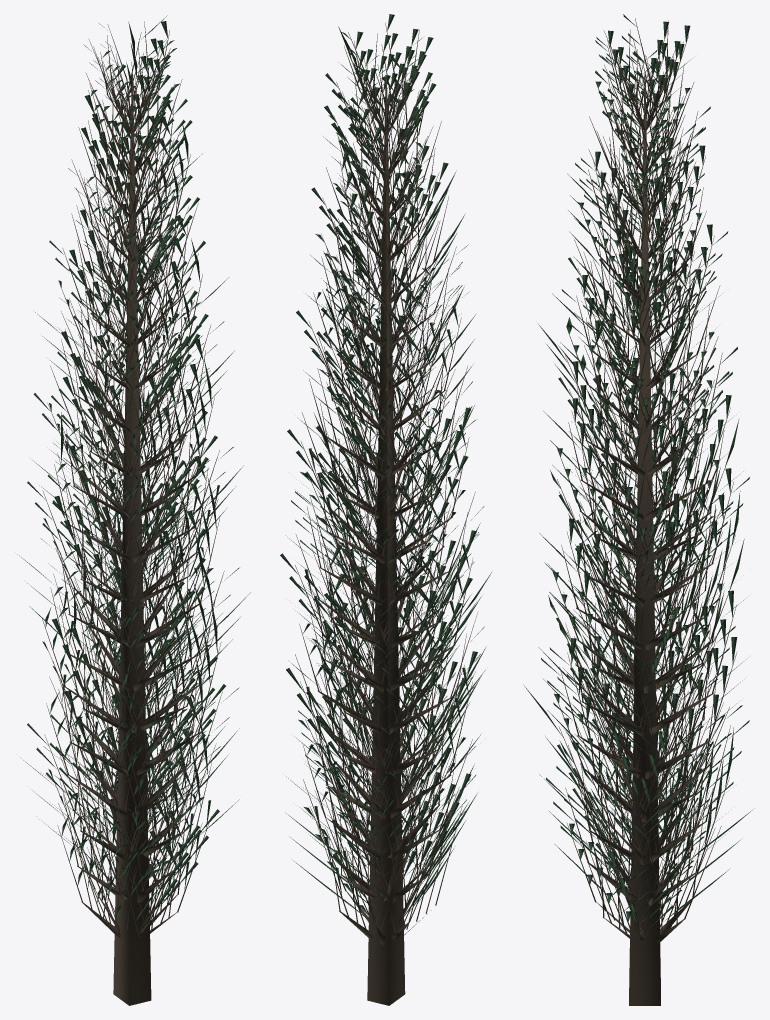
Rendered from columnar-evergreen-mobile.glb.
The picture shows the model from 3 angles, left to right: view 1: azimuth 30°, elevation 25°; view 2: azimuth 150°, elevation 25°; view 3: azimuth 270°, elevation 25°; orthographic projection.
Parts seen in each view (by area): view 1: Evergreen connected main bough, Closed conifer needle sprays; view 2: Evergreen connected main bough, Closed conifer needle sprays; view 3: Evergreen connected main bough, Closed conifer needle sprays.
Part boxes in pixels (x1=…): Evergreen connected main bough: x1=42, y1=21, x2=224, y2=1005; Closed conifer needle sprays: x1=17, y1=15, x2=250, y2=921; Evergreen connected main bough: x1=295, y1=23, x2=478, y2=1005; Closed conifer needle sprays: x1=280, y1=14, x2=491, y2=921; Evergreen connected main bough: x1=552, y1=18, x2=737, y2=1005; Closed conifer needle sprays: x1=523, y1=14, x2=754, y2=927.
Bounding box in the file's own units: 2.36 × 11.9 × 2.59.
Materials: 2 (2 with a texture image).
